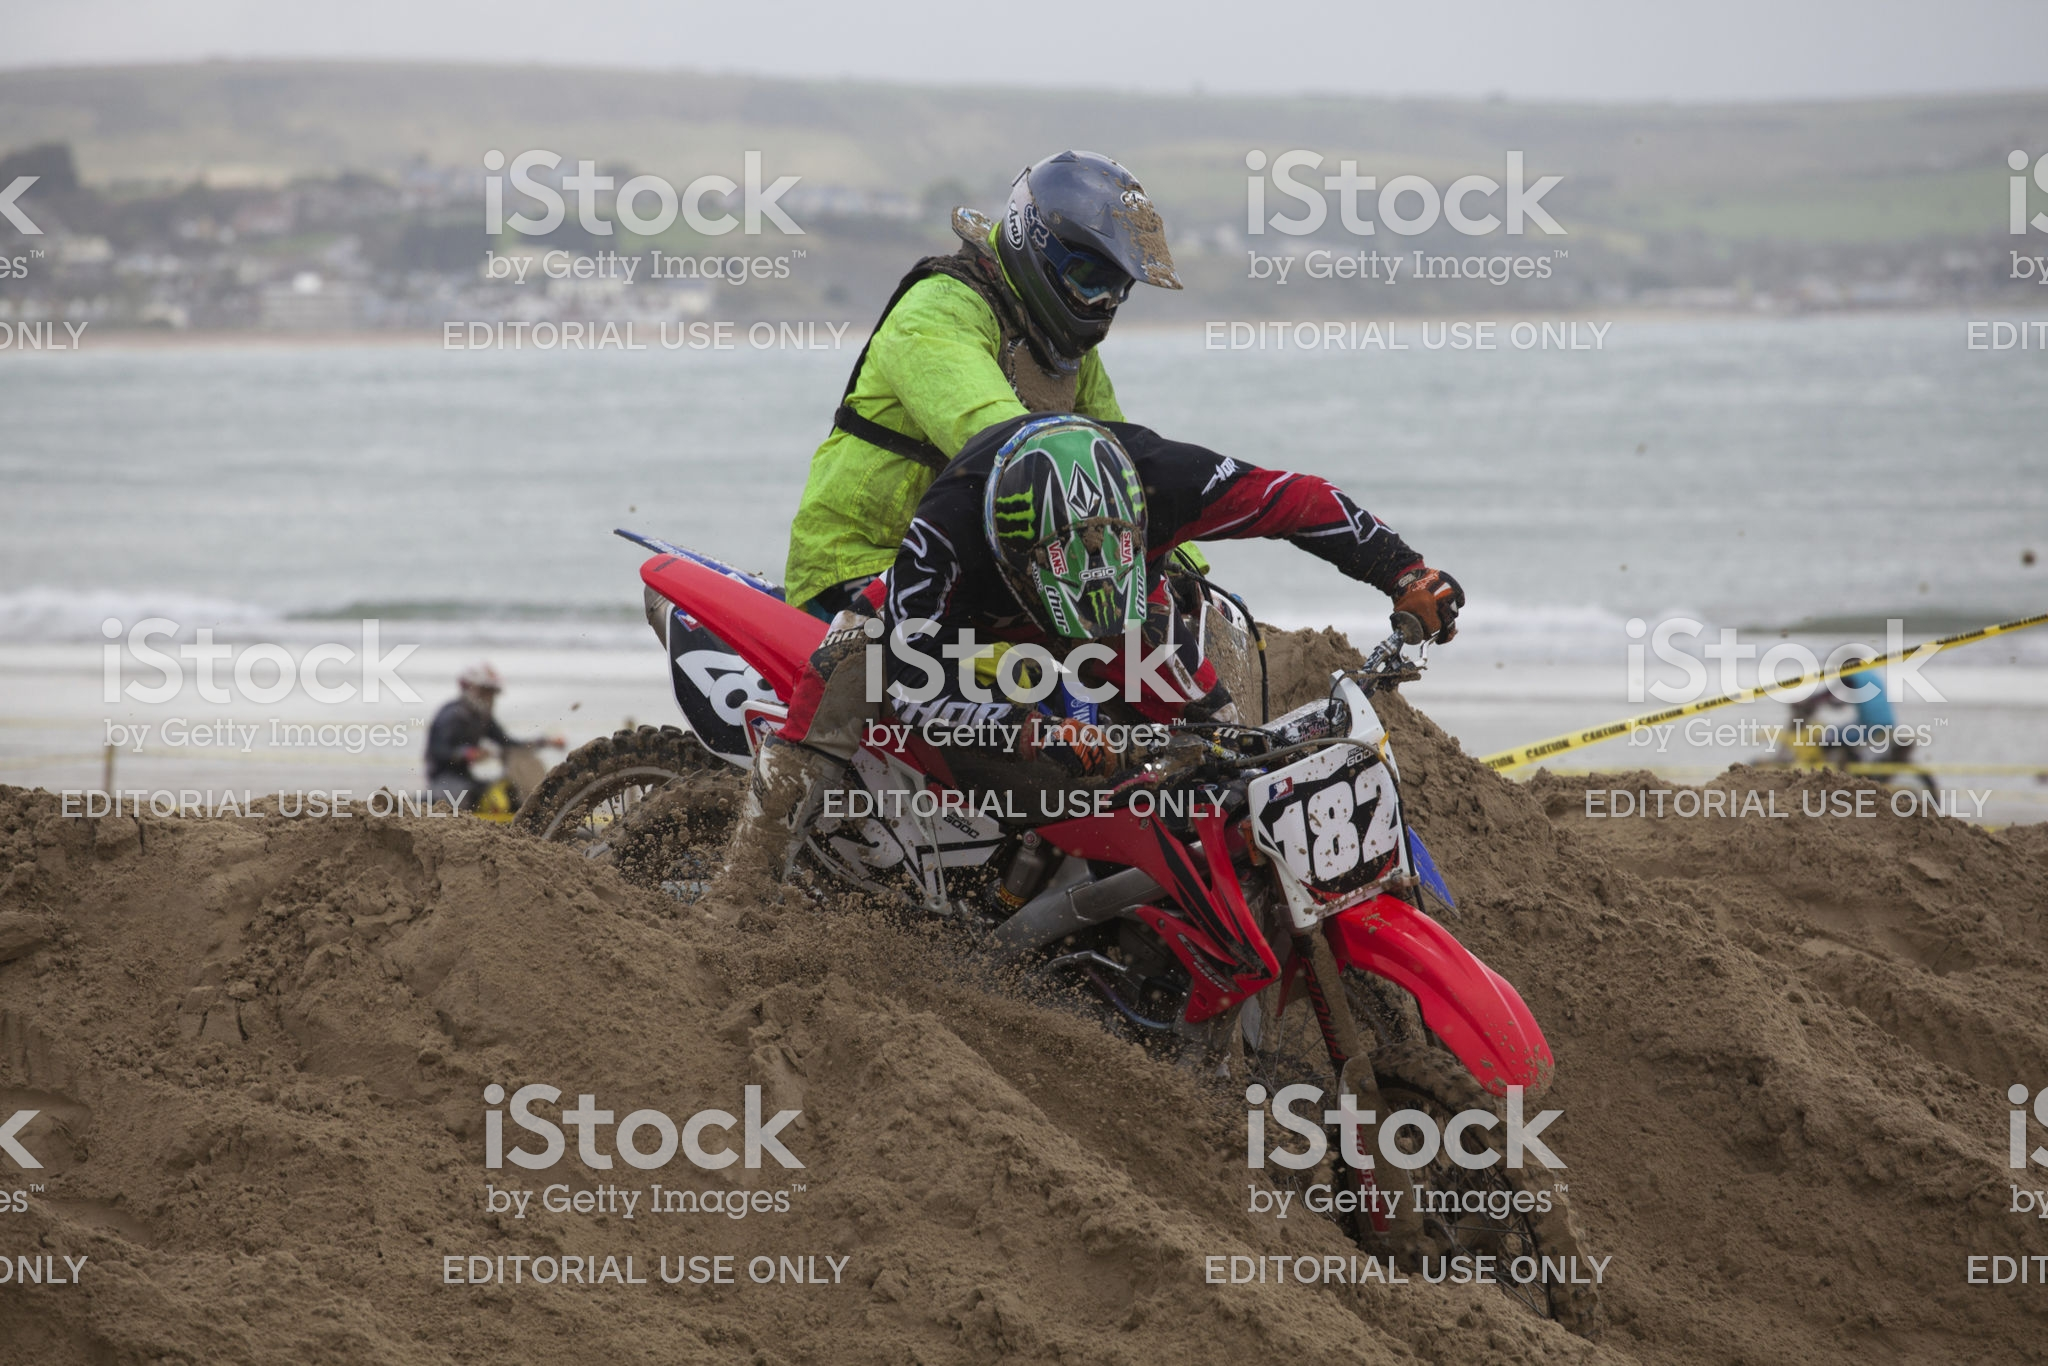helmet: (986, 159, 1204, 364)
